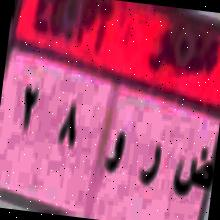2: (10, 74, 45, 147)
8: (49, 88, 90, 160)
daad: (168, 142, 216, 212)
raa: (132, 124, 167, 203)
waw: (100, 118, 132, 182)
